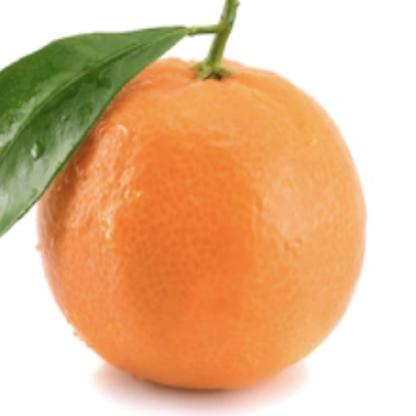fresh: (33, 53, 369, 398)
